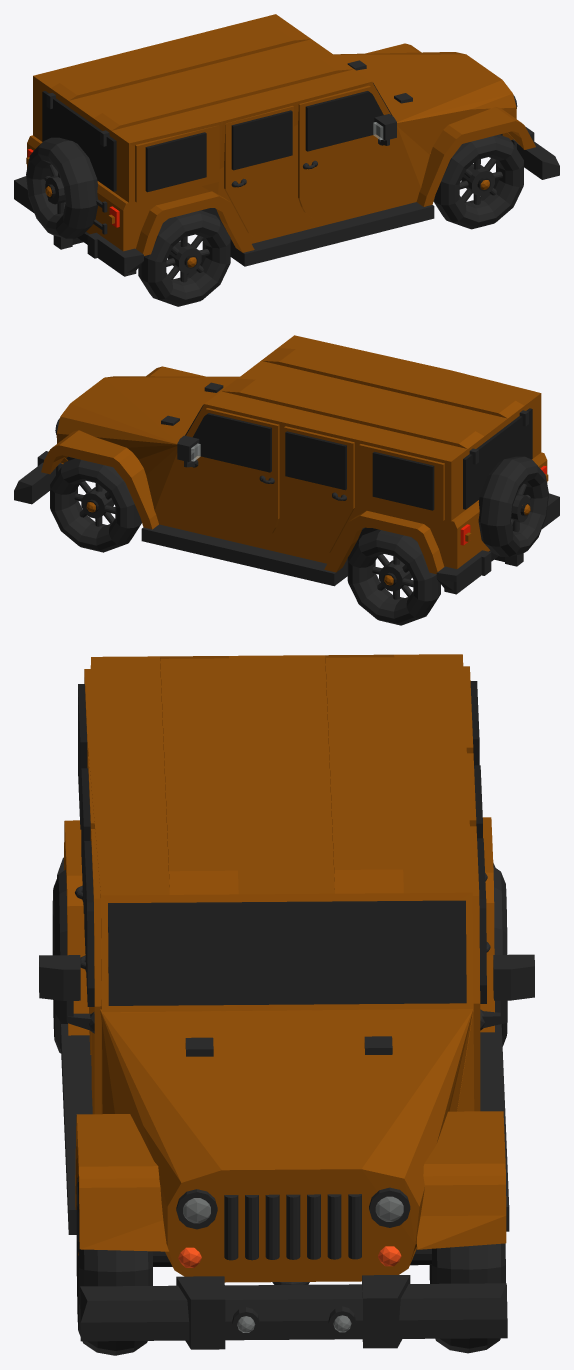
File: Wrangler_O.glb
The picture shows the model from 3 angles, top to bottom: view 1: azimuth 30°, elevation 25°; view 2: azimuth 150°, elevation 25°; view 3: azimuth 270°, elevation 25°; orthographic projection. The views are drawn at different scales.
Parts seen in each view (by area): view 1: Node-Mesh, Node-Mesh_1, Node-Mesh_2; view 2: Node-Mesh, Node-Mesh_1, Node-Mesh_2; view 3: Node-Mesh, Node-Mesh_1, Node-Mesh_2, Node-Mesh_5.
Boxes of the visible parts, x1,y1,x2,y2 form: Node-Mesh: (26,14,535,267); Node-Mesh_1: (14,60,559,306); Node-Mesh_2: (42,83,490,268); Node-Mesh: (41,335,548,585); Node-Mesh_1: (14,382,559,625); Node-Mesh_2: (85,404,532,586); Node-Mesh: (64,654,506,1282); Node-Mesh_1: (39,857,534,1355); Node-Mesh_2: (78,681,486,1266); Node-Mesh_5: (183,1197,403,1332).
Bounding box in the file's own units: 1.57 × 0.56 × 0.7208.
